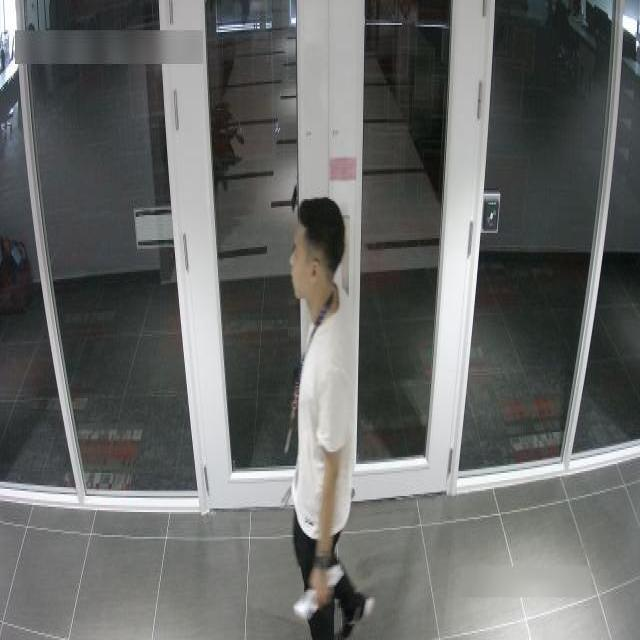bare_hand: (304, 542, 343, 619)
